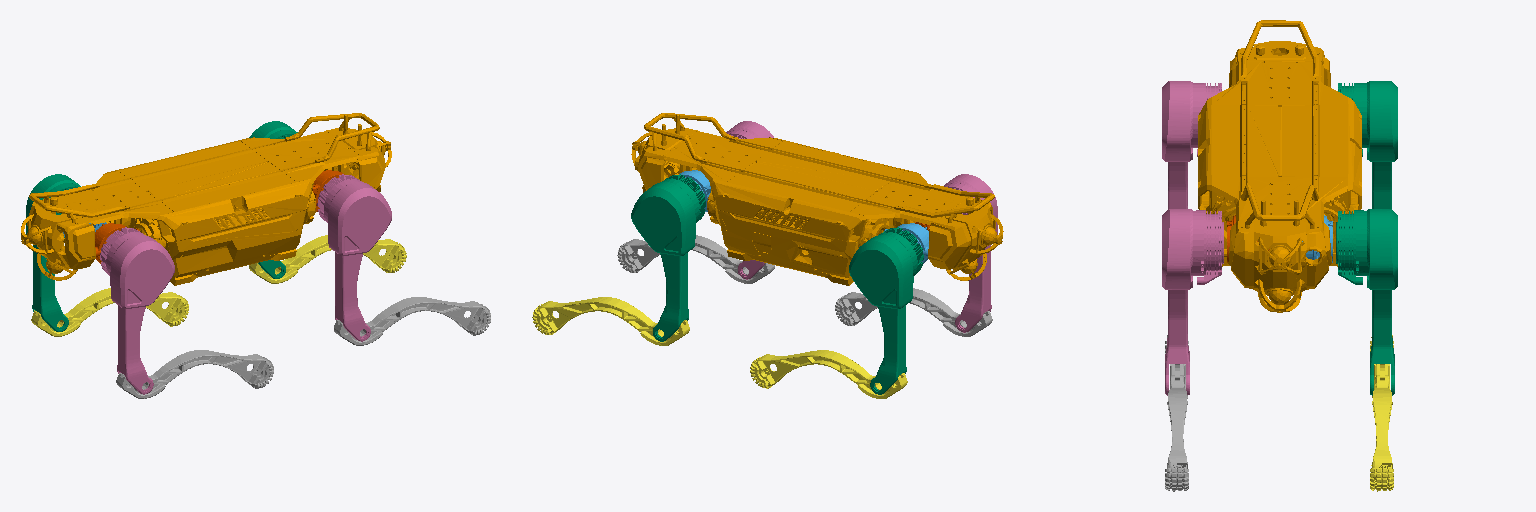
The robot description file, URDF, robot "X30":
<?xml version="1.0" encoding="utf-8"?>
<!-- This URDF was automatically created by SolidWorks to URDF Exporter! Originally created by [author] ([email redacted]) 
     Commit Version: 1.6.0-4-g7f85cfe  Build Version: 1.6.7995.38578
     For more information, please see http://wiki.ros.org/sw_urdf_exporter -->
<robot name="X30">
    <mujoco>
        <compiler meshdir="../meshes/" balanceinertia="false" discardvisual="false"/>
    </mujoco>
  <!-- <link name="base_link">
    <inertial>
      <origin xyz="0.0 0.0 0.0"/>
      <mass value="1e-12" />
      <inertia ixx="1e-12" ixy="0" ixz="0" iyy="1e-12" iyz="0" izz="1e-12" />
    </inertial>
  </link> -->

  <link name="TORSO">
    <inertial>
      <origin xyz="-0.00 0.0 0.0" rpy="0 0 0" />
      <mass value="30.7" />
      <inertia ixx="0.364306" ixy="0.00018421" ixz="0.00027469" iyy="0.597627" iyz="0.00026784" izz="0.757267" />
    </inertial>
    <visual>
      <origin xyz="0 0 0" rpy="0 0 0" />
      <geometry>
        <mesh filename="../meshes/torso.STL"/>
      </geometry>
    </visual>
    <collision>
      <origin xyz="0 0 0" rpy="0 0 0" />
      <geometry>
        <box size="0.46 0.26 0.18"/>
      </geometry>
    </collision>
  </link>

  <!-- <joint name="base_joint" type="fixed">
    <parent link="base_link" />
    <child link="torso" />
  </joint> -->

  <link name="FL_HIP">
    <inertial>
      <origin xyz="-0.0018591 -0.011377 0.00027039" rpy="0 0 0" />
      <mass value="1.43" />
      <inertia ixx="0.0014068" ixy="-1.8545e-05" ixz="2.7664e-06" iyy="0.0026782" iyz="2.1221e-06" izz="0.0015918" />
    </inertial>
    <visual>
      <origin xyz="0 0 0" rpy="0 0 0" />
      <geometry>
        <mesh filename="../meshes/fl_hip.STL"/>
      </geometry>
    </visual>
  </link>

  <joint name="FL_HipX_joint" type="revolute">
    <origin xyz="0.291 0.08 0" rpy="0 0 0" />
    <parent link="TORSO" />
    <child link="FL_HIP" />
    <axis xyz="-1 0 0" />
    <dynamics damping="0.0" friction="0.0"/>
    <limit lower="-0.323" upper="0.585" effort="84" velocity="17.5" />
  </joint>

  <link name="FL_THIGH">
    <inertial>
      <origin xyz="-0.0087581 -0.023554 -0.055162" rpy="0 0 0" />
      <mass value="4.0809" />
      <inertia ixx="0.012604" ixy="0.00020291" ixz="-0.00030875" iyy="0.0164" iyz="0.00036593" izz="0.0061084" />
    </inertial>
    <visual>
      <origin xyz="0 0 0" rpy="0 0 0" />
      <geometry>
        <mesh filename="../meshes/fl_thigh.STL"/>
      </geometry>
    </visual>
    <collision>
      <origin xyz="-0.02 0 -0.13" />
      <geometry>
        <cylinder length="0.25" radius="0.04"/>
      </geometry>
    </collision>
  </link>

  <joint name="FL_HipY_joint" type="revolute">
    <origin xyz="0 0.11675 0" rpy="0 0 0" />
    <parent link="FL_HIP" />
    <child link="FL_THIGH" />
    <axis xyz="0 -1 0" />
    <dynamics damping="0.0" friction="0.0"/>
    <limit lower="-2.967" upper="0.262" effort="84" velocity="17.5" />
  </joint>

  <link name="FL_SHANK">
    <inertial>
      <origin xyz="0.014851 2.0685e-05 -0.12283" rpy="0 0 0" />
      <mass value="0.71386" />
      <inertia ixx="0.0093039" ixy="1.7693e-07" ixz="0.00034843" iyy="0.0096272" iyz="-3.7717e-06" izz="0.00041542" />
    </inertial>
    <visual>
      <origin xyz="0 0 0" rpy="0 0 0" />
      <geometry>
        <mesh filename="../meshes/fl_shank.STL"/>
      </geometry>
    </visual>
    <collision>
      <origin xyz="0.00 0 -0.155" />
      <geometry>
        <cylinder length="0.22" radius="0.025"/>
      </geometry>
    </collision>
  </link>

  <joint name="FL_Knee_joint" type="revolute">
    <origin xyz="0 0 -0.30" rpy="0 0 0" />
    <parent link="FL_THIGH" />
    <child link="FL_SHANK" />
    <axis xyz="0 -1 0" />
    <dynamics damping="0.0" friction="0.0"/>
    <limit lower="0.349" upper="2.531" effort="150" velocity="16.1" />
  </joint>

  <link name="FL_FOOT">
    <inertial>
      <mass value="0.06" />
      <inertia ixx="1e-12" ixy="0" ixz="0" iyy="1e-12" iyz="0" izz="1e-12" />
    </inertial>
    <collision>
      <geometry>
        <sphere radius="0.036"/>
      </geometry>
    </collision>
  </link>

  <joint name="FL_Ankle" type="fixed" dont_collapse="true">
    <origin xyz="0 0 -0.31"/>
    <parent link="FL_SHANK" />
    <child link="FL_FOOT" />
  </joint>

  <link name="FR_HIP">
    <inertial>
      <origin xyz="-0.0018591 0.011377 -2.7675e-05" rpy="3.14159 0 0" />
      <mass value="1.43" />
      <inertia ixx="0.0014068" ixy="1.8545e-05" ixz="-4.1487e-06" iyy="0.0026782" iyz="7.0795e-06" izz="0.0015918" />
    </inertial>
    <visual>
      <origin xyz="0 0 0" rpy="0 0 0" />
      <geometry>
        <mesh filename="../meshes/fr_hip.STL"/>
      </geometry>
    </visual>
  </link>

  <joint name="FR_HipX_joint" type="revolute">
    <origin xyz="0.291 -0.08 0" rpy="0 0 0" />
    <parent link="TORSO" />
    <child link="FR_HIP" />
    <axis xyz="-1 0 0" />
    <dynamics damping="0.0" friction="0.0"/>
    <limit lower="-0.585" upper="0.323" effort="84" velocity="17.5" />
  </joint>

  <link name="FR_THIGH">
    <inertial>
      <origin xyz="-0.0087433 0.023551 -0.055154" rpy="0 0 0" />
      <mass value="4.0809" />
      <inertia ixx="0.012604" ixy="-0.00020374" ixz="-0.0003086" iyy="0.0164" iyz="-0.00036585" izz="0.0061086" />
    </inertial>
    <visual>
      <origin xyz="0 0 0" rpy="0 0 0" />
      <geometry>
        <mesh filename="../meshes/fr_thigh.STL"/>
      </geometry>
    </visual>
    <collision>
      <origin xyz="-0.02 0 -0.13" />
      <geometry>
        <cylinder length="0.25" radius="0.04"/>
      </geometry>
    </collision>
  </link>

  <joint name="FR_HipY_joint" type="revolute">
    <origin xyz="0 -0.11675 0" rpy="0 0 0" />
    <parent link="FR_HIP" />
    <child link="FR_THIGH" />
    <axis xyz="0 -1 0" />
    <dynamics damping="0.0" friction="0.0"/>
    <limit lower="-2.967" upper="0.262" effort="84" velocity="17.5" />
  </joint>

  <link name="FR_SHANK">
    <inertial>
      <origin xyz="0.014851 2.0687e-05 -0.12283" rpy="0 0 0" />
      <mass value="0.71386" />
      <inertia ixx="0.0093039" ixy="1.7692e-07" ixz="0.00034843" iyy="0.0096272" iyz="-3.7714e-06" izz="0.00041542" />
    </inertial>
    <visual>
      <origin xyz="0 0 0" rpy="0 0 0" />
      <geometry>
        <mesh filename="../meshes/fr_shank.STL"/>
      </geometry>
    </visual>
    <collision>
      <origin xyz="0.00 0 -0.155" />
      <geometry>
        <cylinder length="0.22" radius="0.025"/>
      </geometry>
    </collision>
  </link>

  <joint name="FR_Knee_joint" type="revolute">
    <origin xyz="0 0 -0.30" rpy="0 0 0" />
    <parent link="FR_THIGH" />
    <child link="FR_SHANK" />
    <axis xyz="0 -1 0" />
    <dynamics damping="0.0" friction="0.0"/>
    <limit lower="0.349" upper="2.531" effort="150" velocity="16.1" />
  </joint>

  <link name="FR_FOOT">
    <inertial>
      <mass value="0.06" />
      <inertia ixx="1e-12" ixy="0" ixz="0" iyy="1e-12" iyz="0" izz="1e-12" />
    </inertial>
    <collision>
      <geometry>
        <sphere radius="0.036"/>
      </geometry>
    </collision>
  </link>

  <joint name="FR_Ankle" type="fixed" dont_collapse="true">
    <origin xyz="0 0 -0.31"/>
    <parent link="FR_SHANK" />
    <child link="FR_FOOT" />
  </joint>


  <link name="HL_HIP">
    <inertial>
      <origin xyz="0.0018591 -0.011377 -2.7675e-05" rpy="0 3.14159 0" />
      <mass value="1.43" />
      <inertia ixx="0.0014068" ixy="1.8545e-05" ixz="4.1487e-06" iyy="0.0026782" iyz="-7.0795e-06" izz="0.0015918" />
    </inertial>
    <visual>
      <origin xyz="0 0 0" rpy="0 0 0" />
      <geometry>
        <mesh filename="../meshes/hl_hip.STL"/>
      </geometry>
    </visual>
  </link>

  <joint name="HL_HipX_joint" type="revolute">
    <origin xyz="-0.291 0.08 0" rpy="0 0 0" />
    <parent link="TORSO" />
    <child link="HL_HIP" />
    <axis xyz="-1 0 0" />
    <dynamics damping="0.0" friction="0.0"/>
    <limit lower="-0.323" upper="0.585" effort="84" velocity="17.5" />
  </joint>

  <link name="HL_THIGH">
    <inertial>
      <origin xyz="-0.0087581 -0.023554 -0.055162" rpy="0 0 0" />
      <mass value="4.0809" />
      <inertia ixx="0.012604" ixy="0.00020291" ixz="-0.00030875" iyy="0.0164" iyz="0.00036593" izz="0.0061084" />
    </inertial>
    <visual>
      <origin xyz="0 0 0" rpy="0 0 0" />
      <geometry>
        <mesh filename="../meshes/hl_thigh.STL"/>
      </geometry>
    </visual>
    <collision>
      <origin xyz="-0.02 0 -0.13" />
      <geometry>
        <cylinder length="0.25" radius="0.04"/>
      </geometry>
    </collision>
  </link>

  <joint name="HL_HipY_joint" type="revolute">
    <origin xyz="0 0.11675 0" rpy="0 0 0" />
    <parent link="HL_HIP" />
    <child link="HL_THIGH" />
    <axis xyz="0 -1 0" />
    <dynamics damping="0.0" friction="0.0"/>
    <limit lower="-2.967" upper="0.262" effort="84" velocity="17.5" />
  </joint>

  <link name="HL_SHANK">
    <inertial>
      <origin xyz="0.014851 2.0679e-05 -0.12283" rpy="0 0 0" />
      <mass value="0.71386" />
      <inertia ixx="0.0093039" ixy="1.7692e-07" ixz="0.00034843" iyy="0.0096272" iyz="-3.7714e-06" izz="0.00041542" />
    </inertial>
    <visual>
      <origin xyz="0 0 0" rpy="0 0 0" />
      <geometry>
        <mesh filename="../meshes/hl_shank.STL"/>
      </geometry>
    </visual>
    <collision>
      <origin xyz="0.00 0 -0.155" />
      <geometry>
        <cylinder length="0.22" radius="0.025"/>
      </geometry>
    </collision>
  </link>

  <joint name="HL_Knee_joint" type="revolute">
    <origin xyz="0 0 -0.30" rpy="0 0 0" />
    <parent link="HL_THIGH" />
    <child link="HL_SHANK" />
    <axis xyz="0 -1 0" />
    <dynamics damping="0.0" friction="0.0"/>
    <limit lower="0.349" upper="2.531" effort="150" velocity="16.1" />
  </joint>

  <link name="HL_FOOT">
    <inertial>
      <mass value="0.06" />
      <inertia ixx="1e-12" ixy="0" ixz="0" iyy="1e-12" iyz="0" izz="1e-12" />
    </inertial>
    <collision>
      <geometry>
        <sphere radius="0.036"/>
      </geometry>
    </collision>
  </link>

  <joint name="HL_Ankle" type="fixed" dont_collapse="true">
    <origin xyz="0 0 -0.31"/>
    <parent link="HL_SHANK" />
    <child link="HL_FOOT" />
  </joint>

  <link name="HR_HIP">
    <inertial>
      <origin xyz="0.0018591 0.011377 0.00027039" rpy="3.14159 3.14159 0" />
      <mass value="1.43" />
      <inertia ixx="0.0014068" ixy="-1.8545e-05" ixz="-2.7664e-06" iyy="0.0026782" iyz="-2.1221e-06" izz="0.0015918" />
    </inertial>
    <visual>
      <origin xyz="0 0 0" rpy="0 0 0" />
      <geometry>
        <mesh filename="../meshes/hr_hip.STL"/>
      </geometry>
    </visual>
  </link>

  <joint name="HR_HipX_joint" type="revolute">
    <origin xyz="-0.291 -0.08 0" rpy="0 0 0" />
    <parent link="TORSO" />
    <child link="HR_HIP" />
    <axis xyz="-1 0 0" />
    <dynamics damping="0.0" friction="0.0"/>
    <limit lower="-0.585" upper="0.323" effort="84" velocity="17.5" />
  </joint>

  <link name="HR_THIGH">
    <inertial>
      <origin xyz="-0.0087433 0.023551 -0.055154" rpy="0 0 0" />
      <mass value="4.0809" />
      <inertia ixx="0.012604" ixy="-0.00020374" ixz="-0.0003086" iyy="0.0164" iyz="-0.00036585" izz="0.0061086" />
    </inertial>
    <visual>
      <origin xyz="0 0 0" rpy="0 0 0" />
      <geometry>
        <mesh filename="../meshes/hr_thigh.STL"/>
      </geometry>
    </visual>
    <collision>
      <origin xyz="-0.02 0 -0.13" />
      <geometry>
        <cylinder length="0.25" radius="0.04"/>
      </geometry>
    </collision>
  </link>

  <joint name="HR_HipY_joint" type="revolute">
    <origin xyz="0 -0.11675 0" rpy="0 0 0" />
    <parent link="HR_HIP" />
    <child link="HR_THIGH" />
    <axis xyz="0 -1 0" />
    <dynamics damping="0.0" friction="0.0"/>
    <limit lower="-2.967" upper="0.262" effort="84" velocity="17.5" />
  </joint>

  <link name="HR_SHANK">
    <inertial>
      <origin xyz="0.014851 2.0679e-05 -0.12283" rpy="0 0 0" />
      <mass value="0.71386" />
      <inertia ixx="0.0093039" ixy="1.7692e-07" ixz="0.00034843" iyy="0.0096272" iyz="-3.7714e-06" izz="0.00041542" />
    </inertial>
    <visual>
      <origin xyz="0 0 0" rpy="0 0 0" />
      <geometry>
        <mesh filename="../meshes/hr_shank.STL" />
      </geometry>
    </visual>
    <collision>
      <origin xyz="0.00 0 -0.155" />
      <geometry>
        <cylinder length="0.22" radius="0.025"/>
      </geometry>
    </collision>
  </link>

  <joint name="HR_Knee_joint" type="revolute">
    <origin xyz="0 0 -0.30" rpy="0 0 0" />
    <parent link="HR_THIGH" />
    <child link="HR_SHANK" />
    <axis xyz="0 -1 0" />
    <dynamics damping="0.0" friction="0.0"/>
    <limit lower="0.349" upper="2.531" effort="150" velocity="16.1" />
  </joint>

  <link name="HR_FOOT">
    <inertial>
      <mass value="0.06" />
      <inertia ixx="1e-12" ixy="0" ixz="0" iyy="1e-12" iyz="0" izz="1e-12" />
    </inertial>
    <collision>
      <geometry>
        <sphere radius="0.036"/>
      </geometry>
    </collision>
  </link>

  <joint name="HR_Ankle" type="fixed" dont_collapse="true">
    <origin xyz="0 0 -0.31"/>
    <parent link="HR_SHANK" />
    <child link="HR_FOOT" />
  </joint>

</robot>

--- Facts derived from the render (not from the file) ---
Views: 3 orthographic renders of the robot side by side, from view 1: azimuth 30°, elevation 25°; view 2: azimuth 150°, elevation 25°; view 3: azimuth 270°, elevation 25°.
Model X30 with 17 links and 16 joints (12 revolute, 4 fixed), rooted at TORSO, posed all joints at 0 but 4 set to mid-range because 0 is outside their limits (FL_Knee_joint = 1.44, FR_Knee_joint = 1.44, HL_Knee_joint = 1.44, HR_Knee_joint = 1.44).
Visible links, largest first — view 1: TORSO, FR_THIGH, HR_THIGH, HR_SHANK, FR_SHANK, HL_SHANK, HL_THIGH, FL_SHANK, FL_THIGH; view 2: TORSO, HL_THIGH, FL_THIGH, HL_SHANK, FL_SHANK, HR_THIGH, HR_SHANK, FR_SHANK, FR_THIGH; view 3: TORSO, FL_THIGH, FR_THIGH, HR_THIGH, HL_THIGH, FL_SHANK, FR_SHANK.
Boxes of the visible links, left/top/right/bottom form: TORSO: left=21, top=113, right=391, bottom=285; FR_THIGH: left=317, top=174, right=391, bottom=341; HR_THIGH: left=100, top=227, right=174, bottom=394; HR_SHANK: left=116, top=350, right=273, bottom=398; FR_SHANK: left=334, top=297, right=490, bottom=345; HL_SHANK: left=31, top=288, right=188, bottom=336; HL_THIGH: left=26, top=174, right=80, bottom=331; FL_SHANK: left=249, top=235, right=406, bottom=283; FL_THIGH: left=249, top=121, right=297, bottom=278; TORSO: left=631, top=113, right=1003, bottom=285; HL_THIGH: left=849, top=227, right=923, bottom=394; FL_THIGH: left=631, top=174, right=705, bottom=341; HL_SHANK: left=750, top=350, right=907, bottom=398; FL_SHANK: left=532, top=297, right=689, bottom=345; HR_THIGH: left=944, top=174, right=997, bottom=332; HR_SHANK: left=835, top=288, right=992, bottom=336; FR_SHANK: left=617, top=235, right=774, bottom=283; FR_THIGH: left=726, top=121, right=773, bottom=279; TORSO: left=1198, top=20, right=1361, bottom=312; FL_THIGH: left=1336, top=209, right=1397, bottom=395; FR_THIGH: left=1162, top=209, right=1223, bottom=395; HR_THIGH: left=1162, top=81, right=1221, bottom=208; HL_THIGH: left=1338, top=81, right=1397, bottom=208; FL_SHANK: left=1370, top=364, right=1393, bottom=491; FR_SHANK: left=1165, top=364, right=1188, bottom=491.
Size in the robot's own frame: 1.13 by 0.4539 by 0.5149 metres.
13 mesh visuals loaded from 13 distinct referenced files (13 binary STL).
